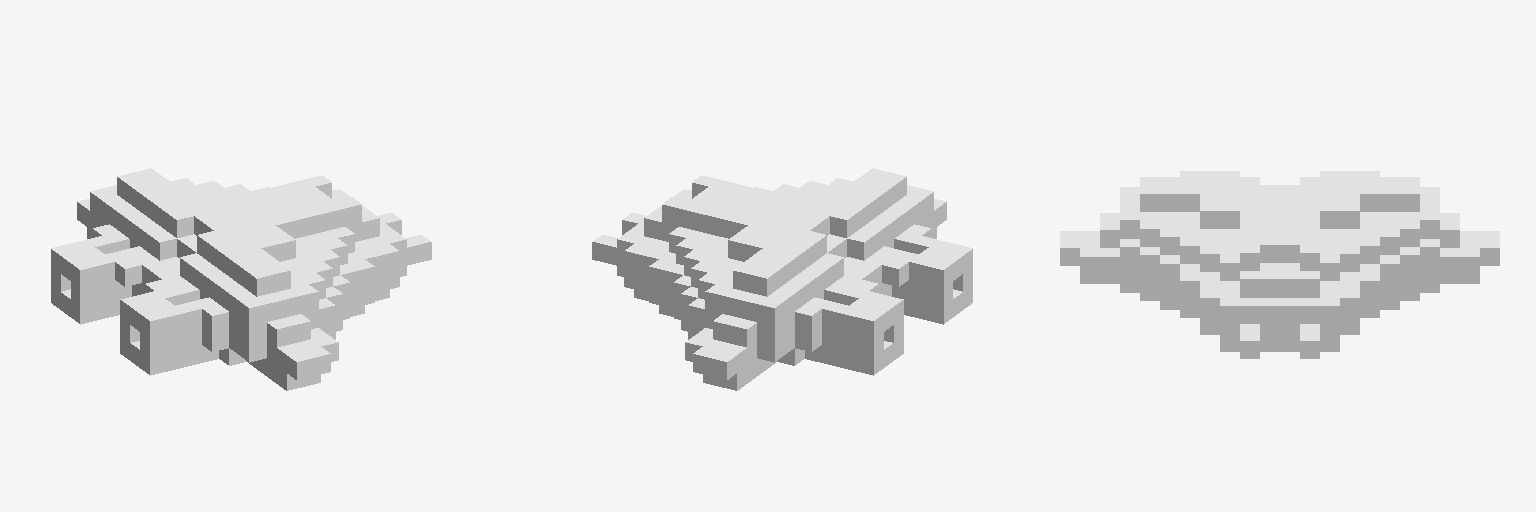
The model's file is Axim3D.obj.
3 views of the same model, side by side, from view 1: azimuth 30°, elevation 25°; view 2: azimuth 150°, elevation 25°; view 3: azimuth 270°, elevation 25° (orthographic).
Parts seen in each view (by area): view 1: object 1; view 2: object 1; view 3: object 1.
Part boxes in pixels (x1,y1,x2,y2): object 1: (51, 168, 431, 390); object 1: (592, 168, 972, 390); object 1: (1060, 171, 1499, 358).
Size of the model in its own units: 1.8 by 0.5 by 2.2.